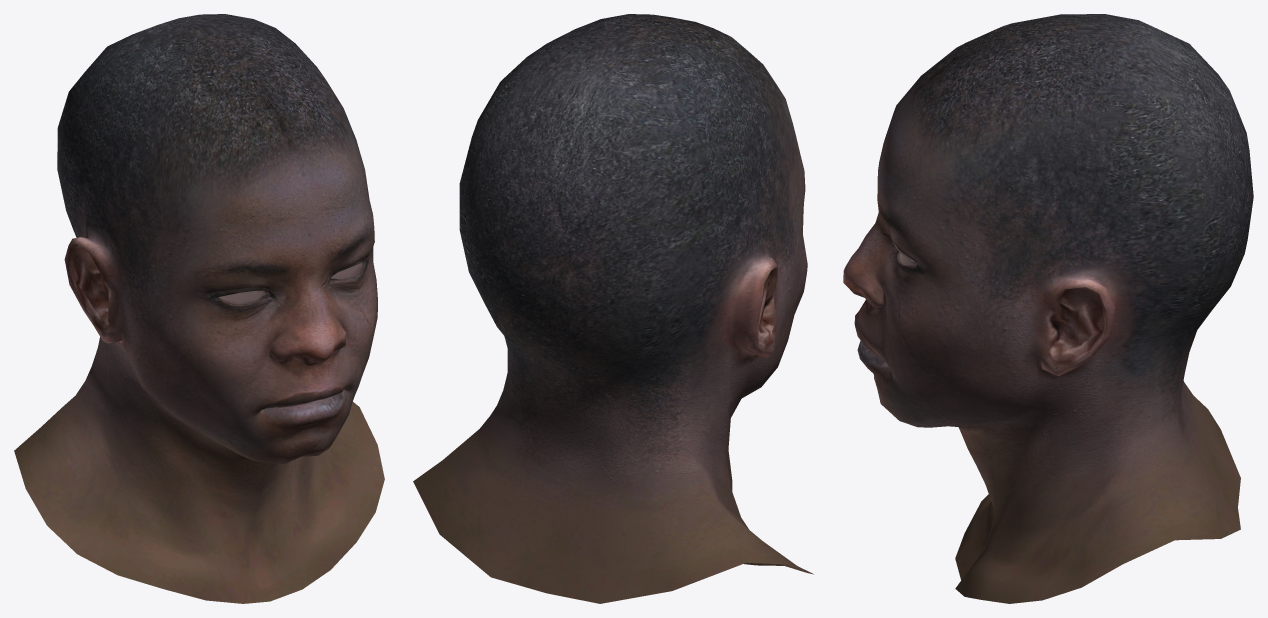
File: african_head.obj
3 renders of one model, left to right at view 1: azimuth 30°, elevation 25°; view 2: azimuth 150°, elevation 25°; view 3: azimuth 270°, elevation 25°, orthographic. The views are drawn at different scales.
Parts seen in each view (by area): view 1: african_head; view 2: african_head; view 3: african_head.
Boxes of the visible parts, x1,y1,x2,y2 form: african_head: (14,14,384,603); african_head: (413,14,813,603); african_head: (843,14,1253,603).
Size of the model in its own units: 1.32 by 2 by 1.35.
1 material, 1 textured.
